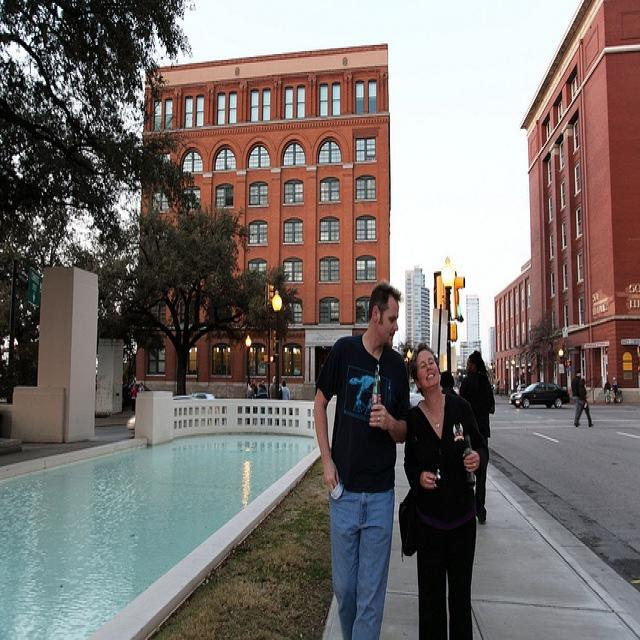body: (307, 277, 414, 638), (394, 336, 491, 638), (453, 348, 499, 532), (240, 370, 295, 435), (572, 374, 595, 428), (570, 370, 582, 427), (599, 370, 620, 394), (127, 378, 138, 417), (137, 379, 148, 396)
